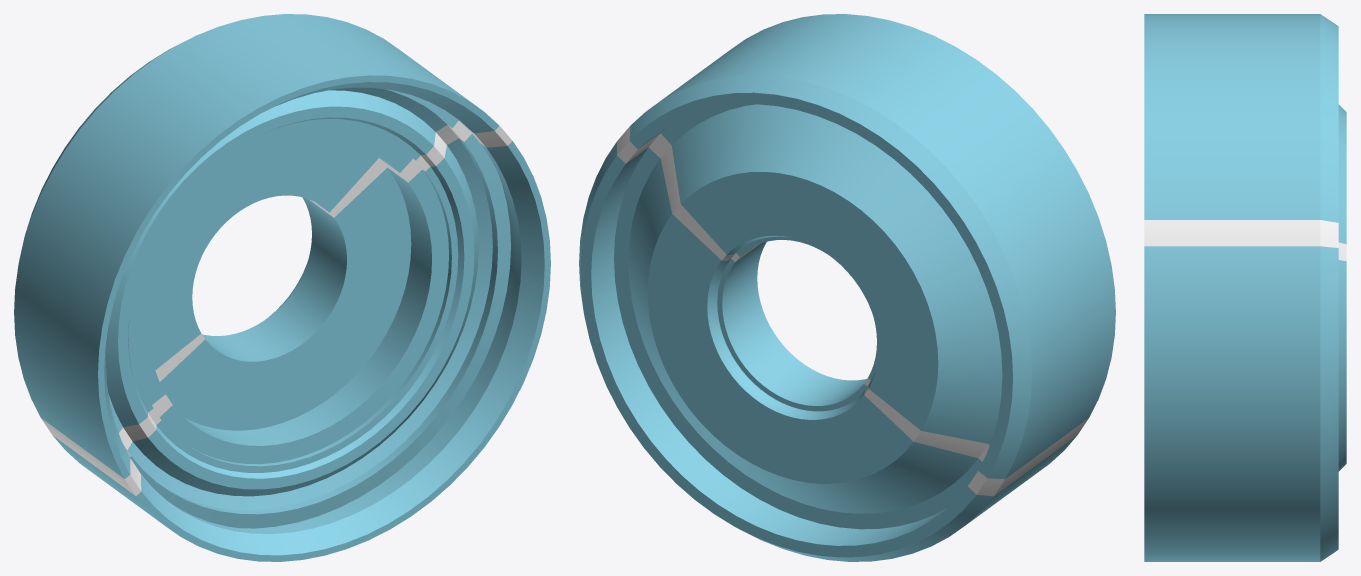
3 views of the same model, side by side, from view 1: azimuth 30°, elevation 25°; view 2: azimuth 150°, elevation 25°; view 3: azimuth 270°, elevation 25° (orthographic). The views are drawn at different scales.
Parts seen in each view (by area): view 1: 682- 687; view 2: 682- 687; view 3: 682- 687.
Part boxes in pixels (left/top/right/bottom): 682- 687: left=14, top=14, right=550, bottom=561; 682- 687: left=579, top=14, right=1115, bottom=561; 682- 687: left=1144, top=14, right=1346, bottom=561.
Size of the model in its own units: 1380 by 1380 by 509.
